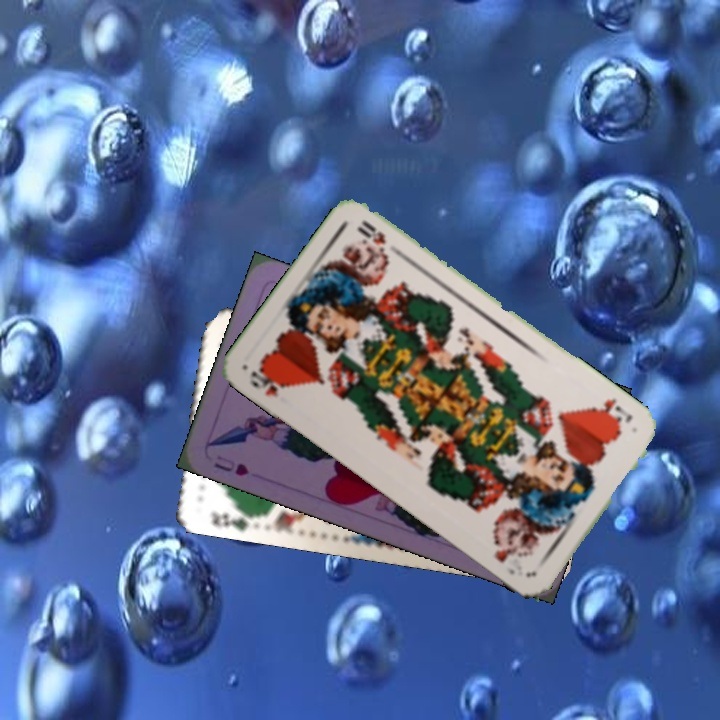GK: (207, 503, 258, 533)
HO: (244, 364, 291, 400), (589, 394, 636, 429)
HU: (209, 456, 252, 479)
